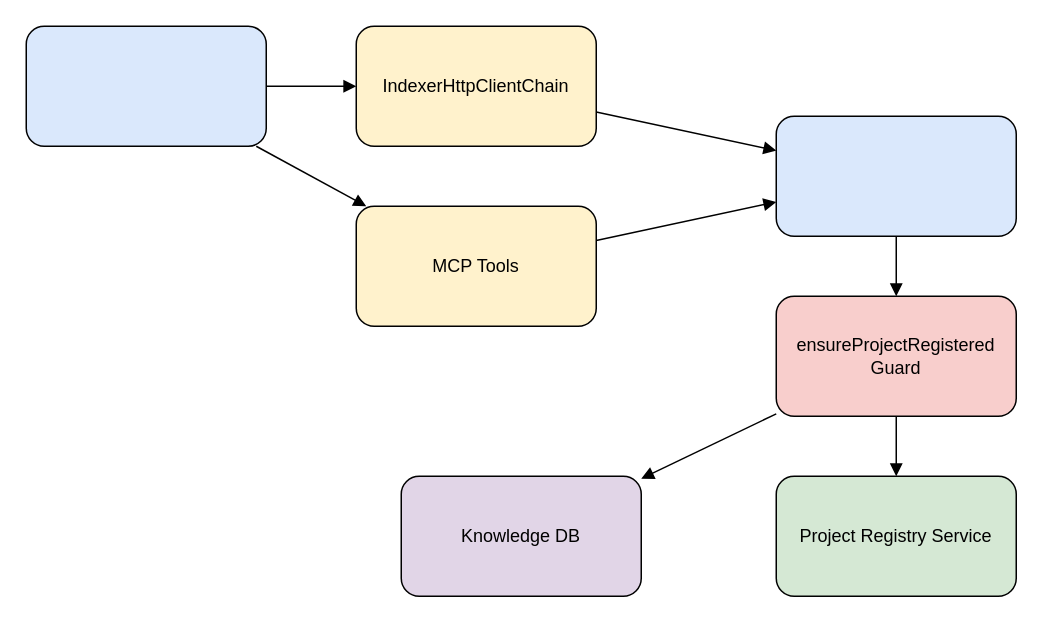
This 1043x623 diagram has some shape labels left out. The centre of each missing label's shape, as x and y in pixels:
Backend API Gateway: (895,175)
Extension Client: (145,85)
